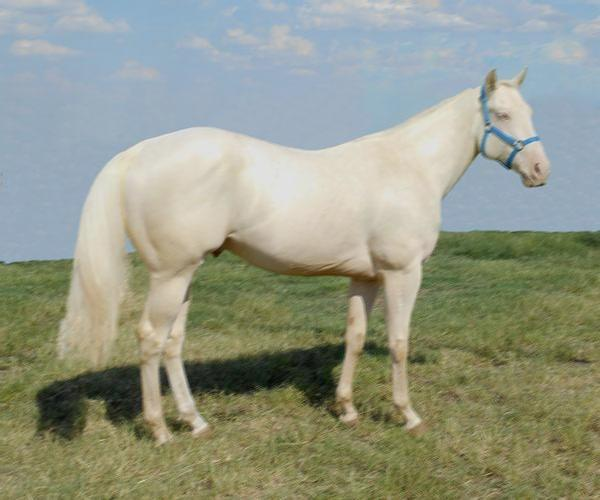horse: (47, 59, 556, 452)
